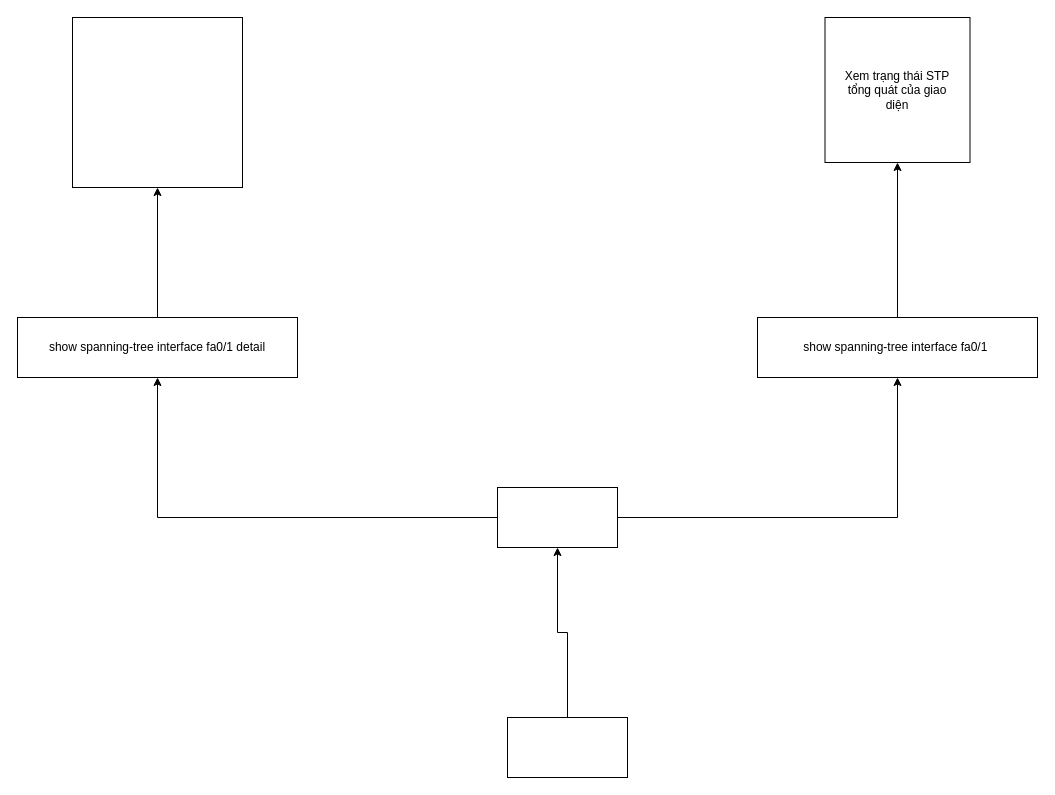
Some shapes in this 1055 by 795 pixel diagram are drawn without their labels. Here are the shapes that lost their labels. From the top down, the box of each, then its label:
(72, 16, 242, 188): Xem chi tiết cấu hình và trạng thái STP trên cổng
(496, 486, 618, 548): spanning-tree
